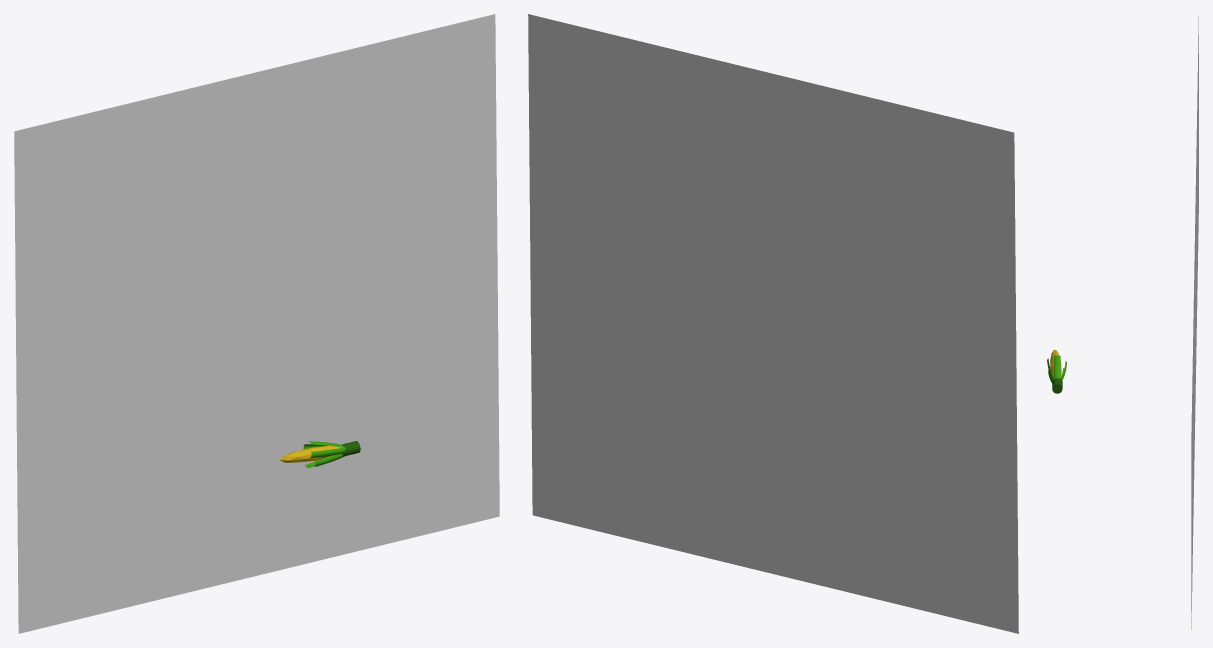
The model's file is elote.fbx.
3 views of the same model, side by side, from view 1: azimuth 30°, elevation 25°; view 2: azimuth 150°, elevation 25°; view 3: azimuth 270°, elevation 25° (orthographic). The views are drawn at different scales.
Parts seen in each view (by area): view 1: Plane; view 2: Plane; view 3: Plane.
Boxes of the visible parts, x1=… form: Plane: x1=14, y1=14, x2=499, y2=633; Plane: x1=528, y1=14, x2=1018, y2=633; Plane: x1=1191, y1=16, x2=1198, y2=629.
Size of the model in its own units: 4082 by 4047 by 1320.
